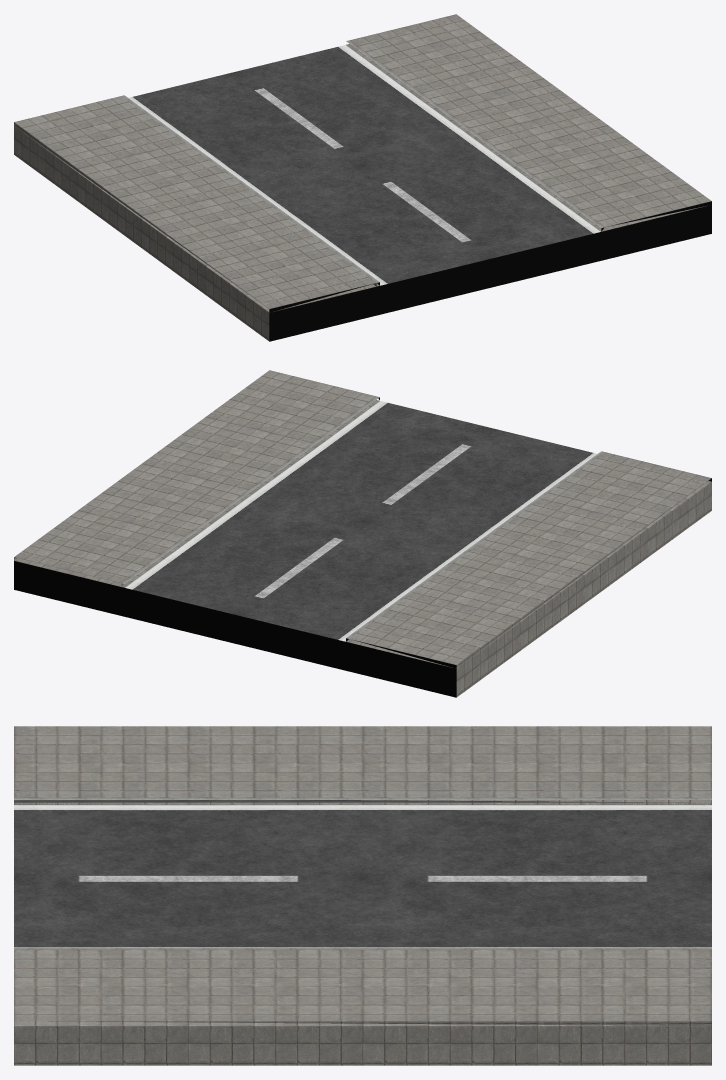
File: SingleStraightShort_2.fbx
3 renders of one model, top to bottom at view 1: azimuth 30°, elevation 25°; view 2: azimuth 150°, elevation 25°; view 3: azimuth 270°, elevation 25°, orthographic. The views are drawn at different scales.
Parts seen in each view (by area): view 1: materialC150, materialA150, materialB150, materialD150; view 2: materialC150, materialA150, materialB150, materialD150; view 3: materialC150, materialA150, materialD150, materialE150.
Part boxes in pixels (left/top/right/bottom): materialC150: left=14, top=14, right=711, bottom=341; materialA150: left=129, top=45, right=600, bottom=285; materialB150: left=269, top=201, right=711, bottom=341; materialD150: left=121, top=40, right=604, bottom=282; materialC150: left=14, top=370, right=711, bottom=697; materialA150: left=125, top=401, right=596, bottom=641; materialB150: left=14, top=397, right=711, bottom=697; materialD150: left=121, top=396, right=604, bottom=638; materialC150: left=14, top=726, right=711, bottom=1065; materialA150: left=14, top=805, right=711, bottom=947; materialD150: left=14, top=797, right=711, bottom=949; materialE150: left=14, top=800, right=711, bottom=804.
Size of the model in its own units: 25.6 by 1.8 by 25.6.
